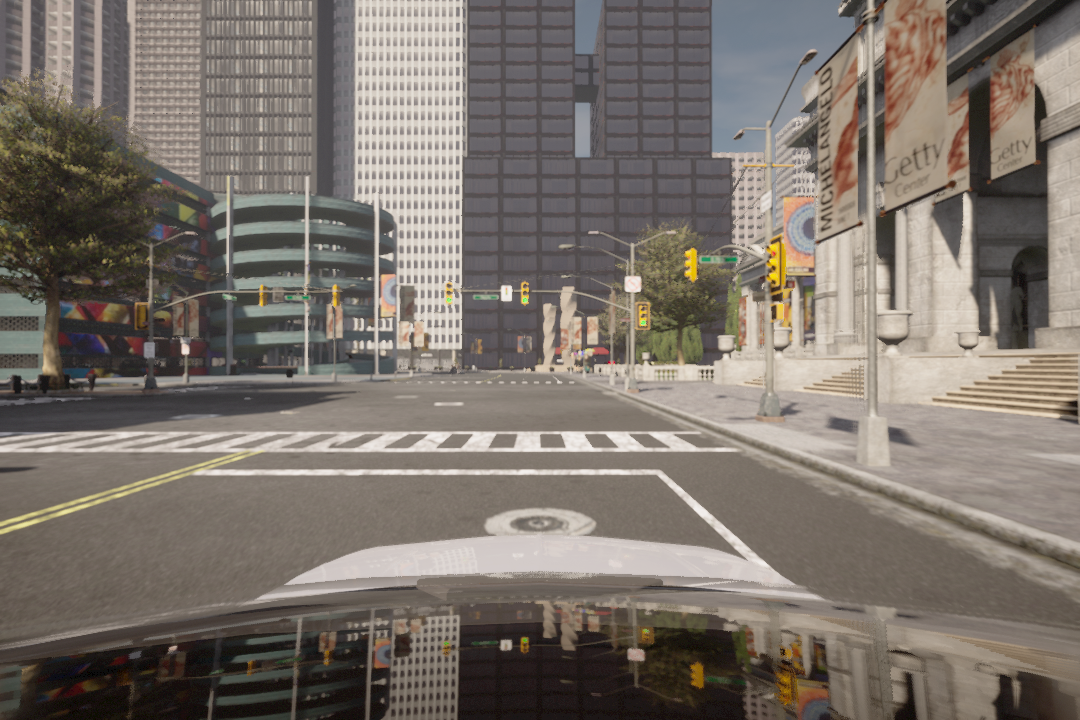TrafficLight: (2, 427, 746, 461), (769, 237, 785, 294), (681, 251, 701, 281), (634, 301, 649, 330), (520, 278, 529, 307), (443, 277, 452, 305)
TrafficSign: (625, 275, 641, 294)
